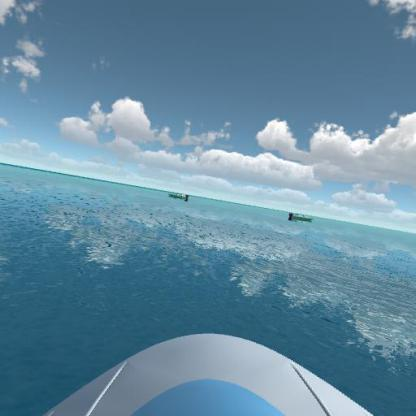usv0: (284, 206, 319, 225), (166, 186, 193, 204)
